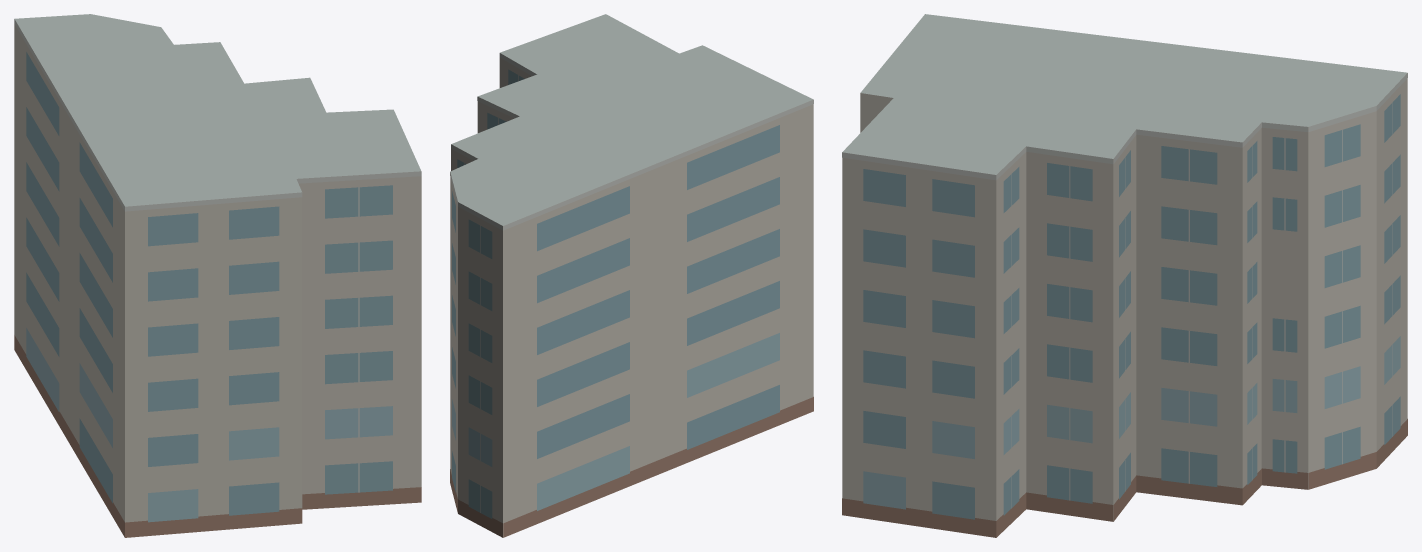
The model's file is survey-upis-32874295.glb.
The picture shows the model from 3 angles, left to right: view 1: azimuth 30°, elevation 25°; view 2: azimuth 150°, elevation 25°; view 3: azimuth 270°, elevation 25°; orthographic projection. The views are drawn at different scales.
Parts seen in each view (by area): view 1: survey-upis-32874295.tmp; view 2: survey-upis-32874295.tmp; view 3: survey-upis-32874295.tmp.
Part boxes in pixels (box(x1,y1,x2,y2)): survey-upis-32874295.tmp: box(14, 14, 421, 537); survey-upis-32874295.tmp: box(450, 14, 813, 537); survey-upis-32874295.tmp: box(842, 14, 1407, 537).
Size of the model in its own units: 15.81 by 16.6 by 23.46.
